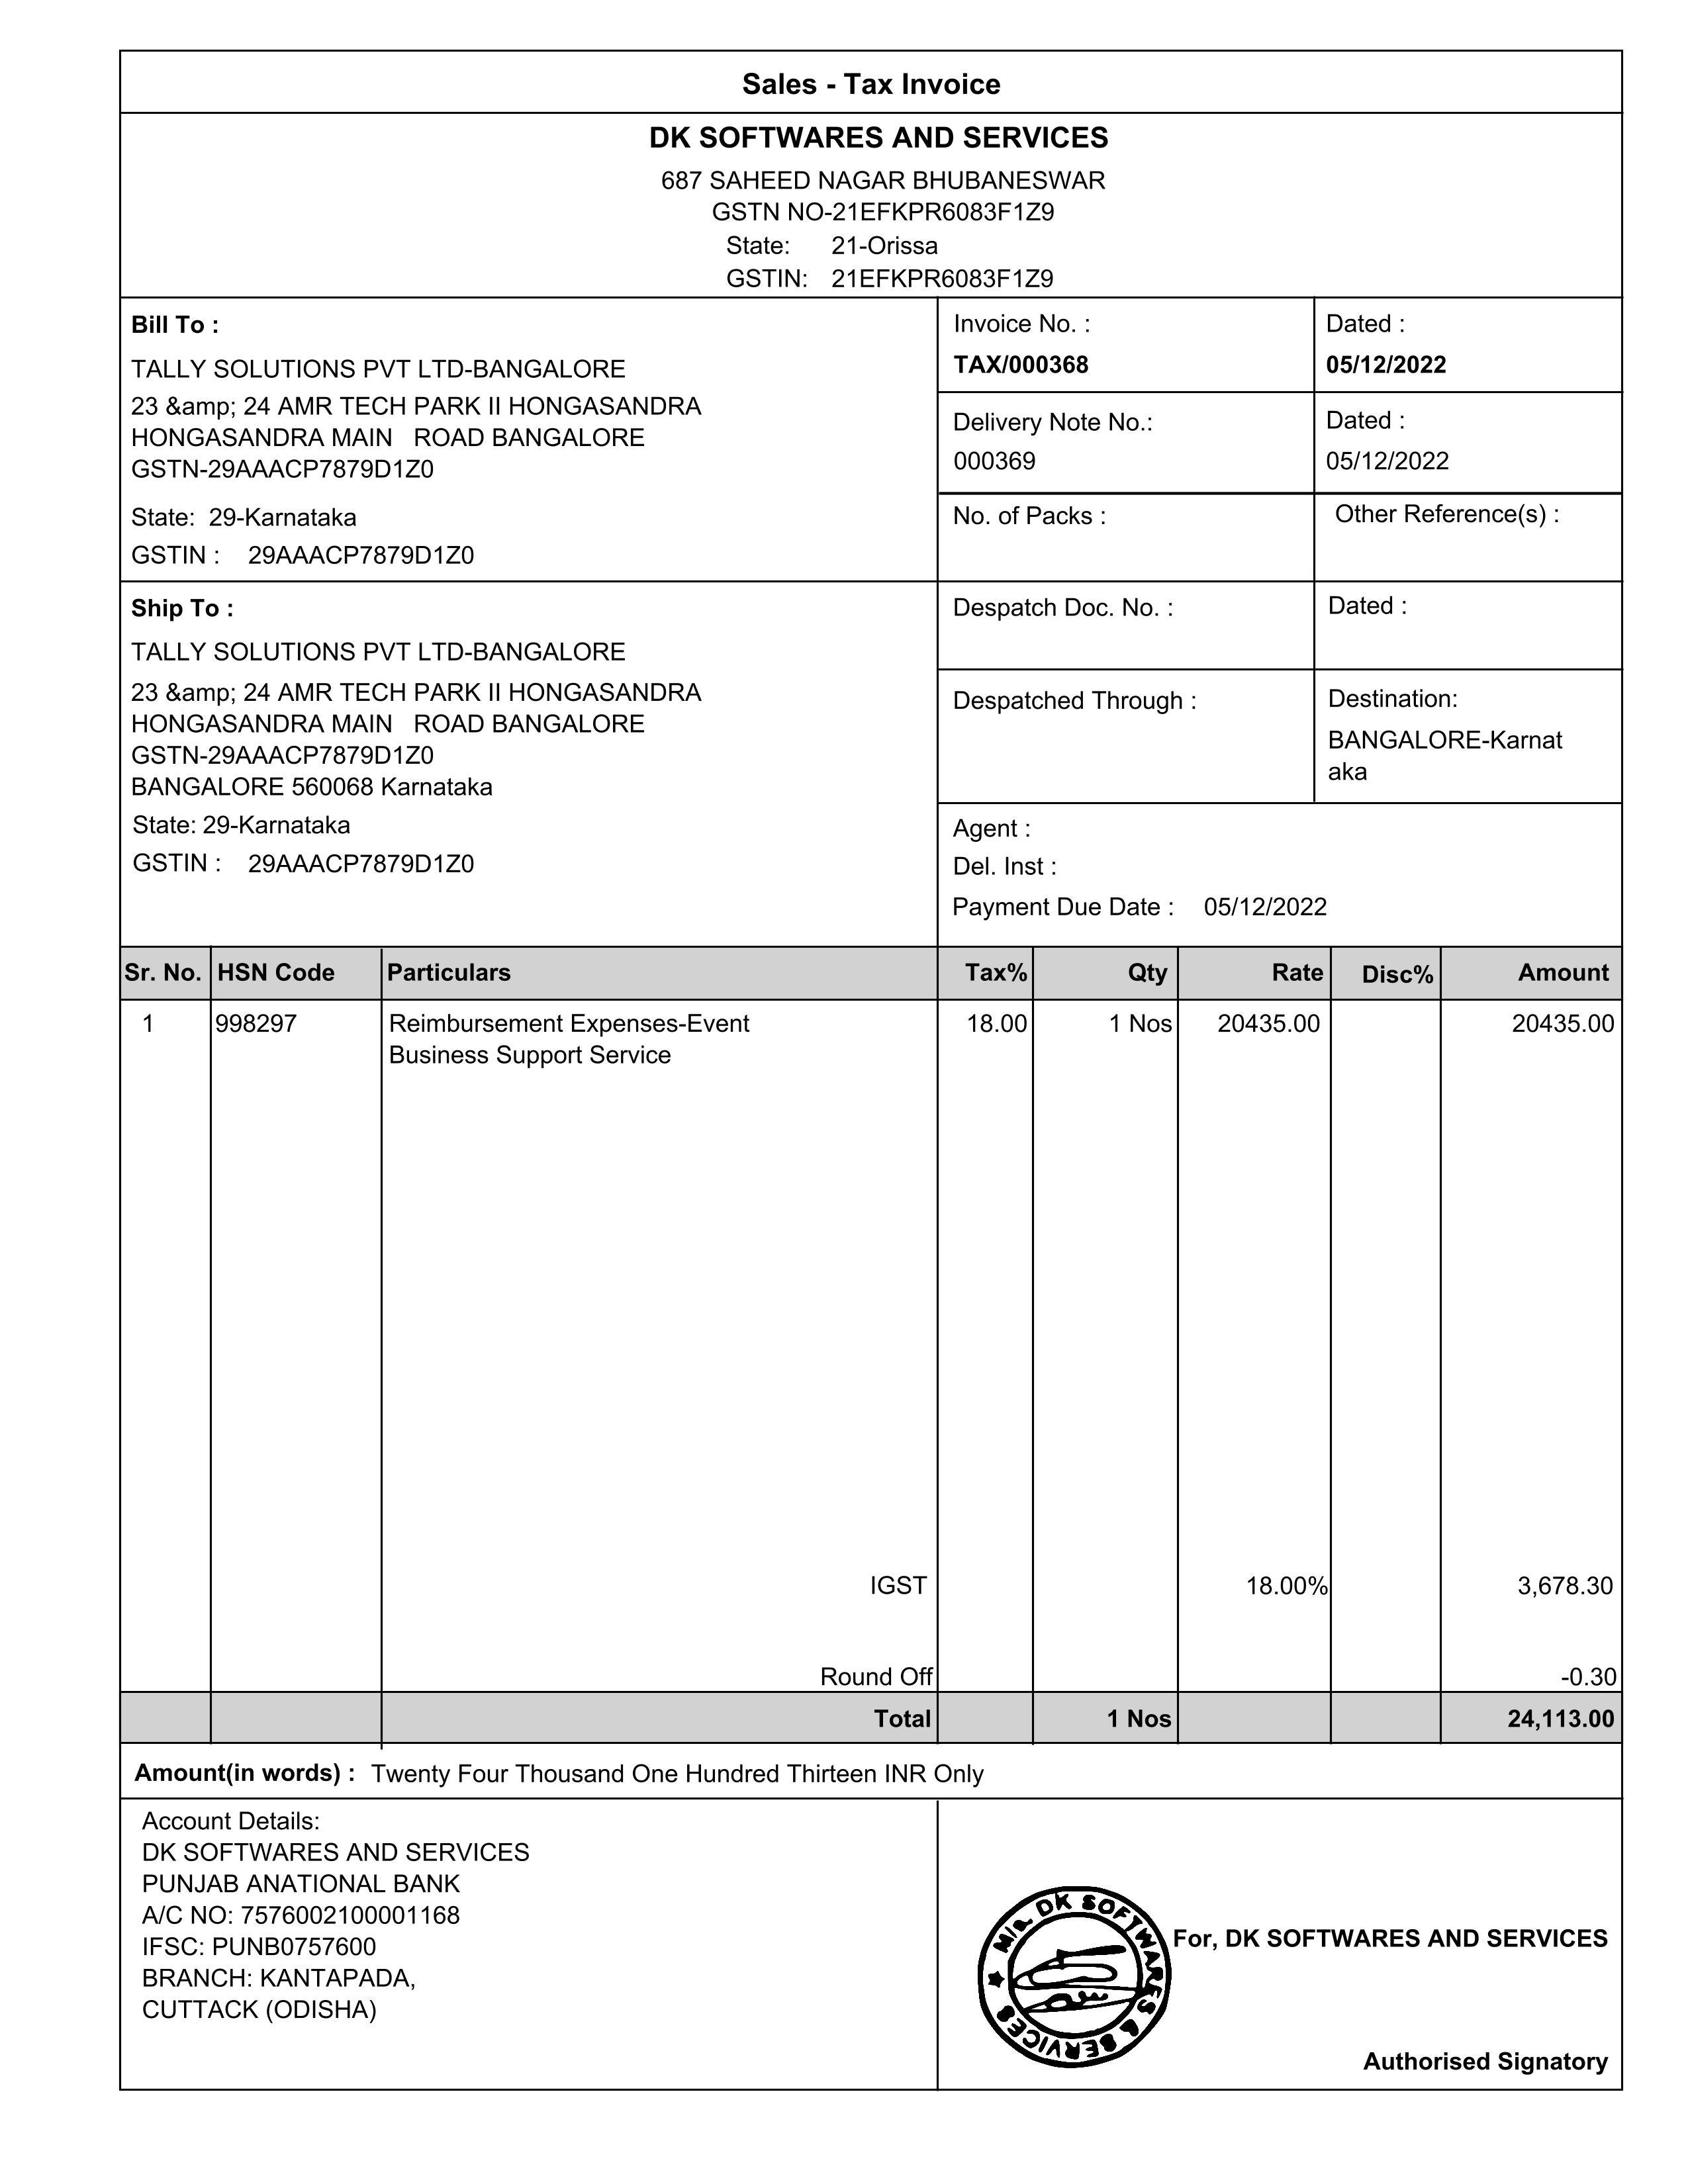InvoiceDate: (1317, 342, 1457, 392)
InvoiceNumber: (942, 339, 1103, 392)
TotalAmount: (1473, 1695, 1626, 1751)
